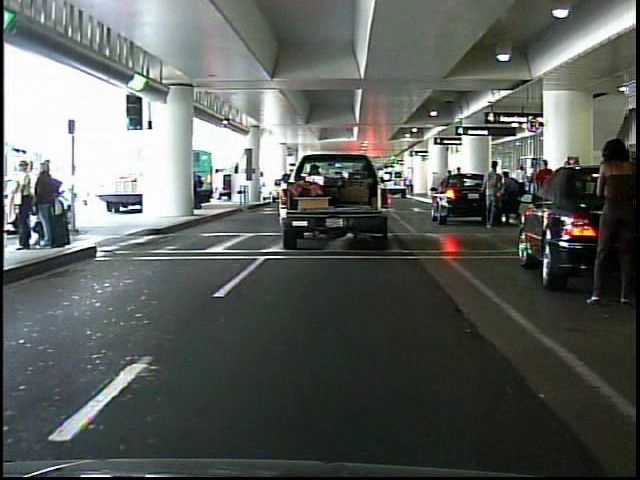person: (584, 135, 636, 307), (475, 155, 508, 234)
